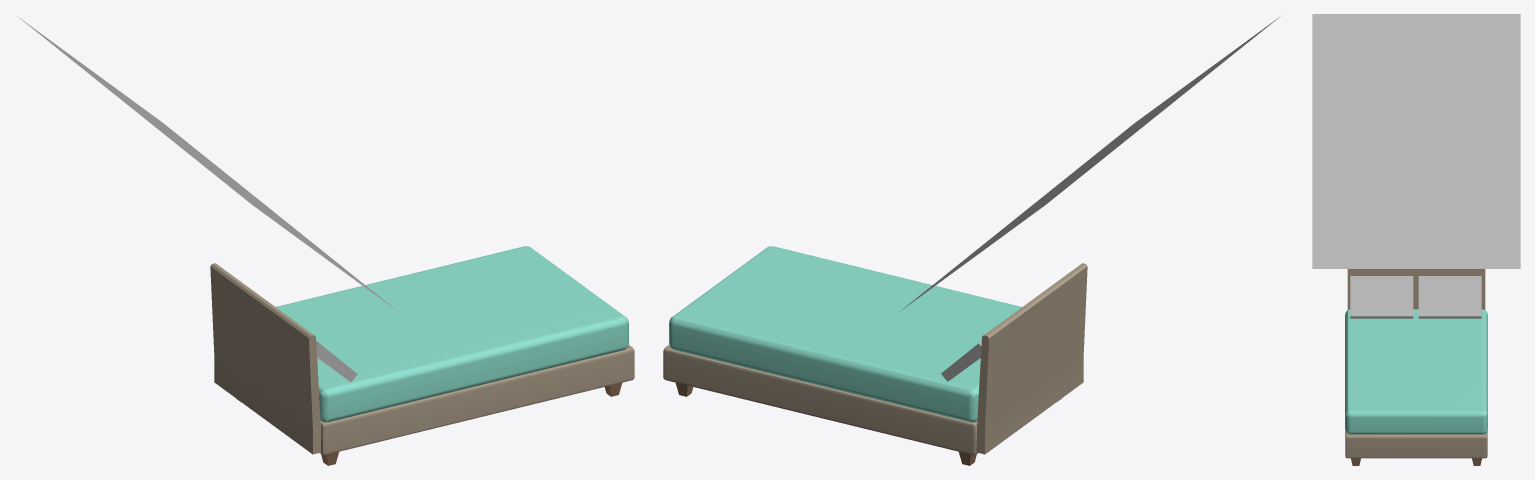
Rendered from bed_mat.fbx.
The picture shows the model from 3 angles, left to right: view 1: azimuth 30°, elevation 25°; view 2: azimuth 150°, elevation 25°; view 3: azimuth 270°, elevation 25°; orthographic projection. The views are drawn at different scales.
Visible parts, largest first — view 1: pCube16, pCube11, pPlane3; view 2: pCube16, pCube11, pPlane3; view 3: pPlane3, pCube16, pCube11, pCube18, pCube19.
Boxes of the visible parts, x1,y1,x2,y2 form: pCube16: (276,246,628,422); pCube11: (210,263,634,454); pPlane3: (17,16,397,311); pCube16: (669,246,1021,422); pCube11: (663,263,1087,454); pPlane3: (900,16,1280,311); pPlane3: (1312,14,1520,268); pCube16: (1345,309,1487,434); pCube11: (1345,269,1487,458); pCube18: (1350,276,1413,318); pCube19: (1418,276,1481,318).
Bounding box in the file's own units: 21.12 × 16.72 × 10.99.
